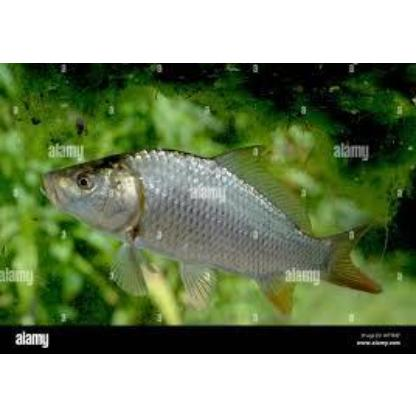ikan-mas: (40, 146, 376, 300)
